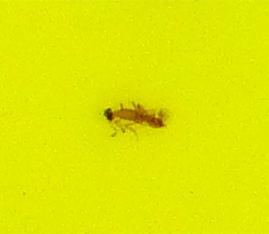Hymenoptera: (100, 100, 169, 134)
